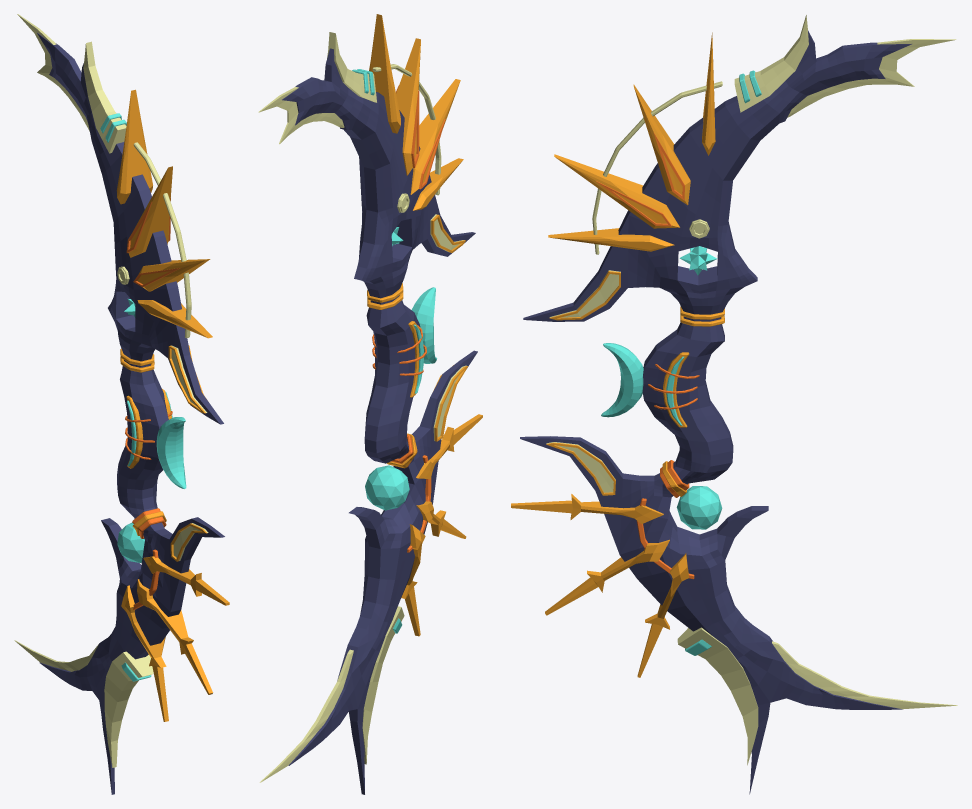
The model's file is betelgious bow_baked.fbx.
3 renders of one model, left to right at view 1: azimuth 30°, elevation 25°; view 2: azimuth 150°, elevation 25°; view 3: azimuth 270°, elevation 25°, orthographic. The views are drawn at different scales.
Parts seen in each view (by area): view 1: Cube, Cube_022, Cube_016, Cube_023, moon, Cube_005, Cube_007, Cube_008, Cube_004, Circle_001, Cube_006, Cube_003 (+7 smaller); view 2: Cube, Cube_005, Cube_016, Cube_004, Icosphere, Cube_002, Cube_022, Cube_001, moon, Cube_008, Cube_023, Cube_024 (+7 smaller); view 3: Cube, Cube_022, Cube_004, Cube_023, Cube_001, Cube_005, Cube_002, moon, Cube_006, Cube_007, Icosphere, Cube_017 (+5 smaller).
Boxes of the visible parts, box(x1,y1,x2,y2) form: Cube: box(37, 33, 224, 794); Cube_022: box(104, 651, 153, 767); Cube_016: box(116, 89, 152, 204); Cube_023: box(83, 41, 126, 153); moon: box(156, 417, 186, 488); Cube_005: box(128, 166, 172, 257); Cube_007: box(137, 579, 212, 694); Cube_008: box(121, 585, 168, 721); Cube_004: box(137, 259, 210, 291); Circle_001: box(133, 142, 191, 338); Cube_006: box(143, 556, 229, 605); Cube_003: box(137, 300, 212, 338); Cube: box(282, 48, 477, 794); Cube_005: box(396, 38, 420, 175); Cube_016: box(369, 14, 400, 133); Cube_004: box(410, 79, 460, 194); Icosphere: box(365, 465, 409, 510); Cube_002: box(259, 649, 353, 782); Cube_022: box(362, 606, 404, 764); Cube_001: box(258, 86, 344, 144); moon: box(411, 287, 436, 363); Cube_008: box(401, 524, 425, 636); Cube_023: box(327, 32, 376, 102); Cube_024: box(431, 214, 468, 441); Cube: box(520, 30, 911, 794); Cube_022: box(677, 627, 758, 765); Cube_004: box(554, 154, 679, 228); Cube_023: box(734, 15, 808, 112); Cube_001: box(787, 39, 956, 117); Cube_005: box(633, 84, 690, 205); Cube_002: box(772, 641, 957, 709); moon: box(601, 343, 643, 417); Cube_006: box(511, 494, 663, 524); Cube_007: box(545, 539, 669, 615); Icosphere: box(676, 486, 722, 529); Cube_017: box(546, 270, 620, 492).
Size of the model in its own units: 475 by 7293 by 3789.
